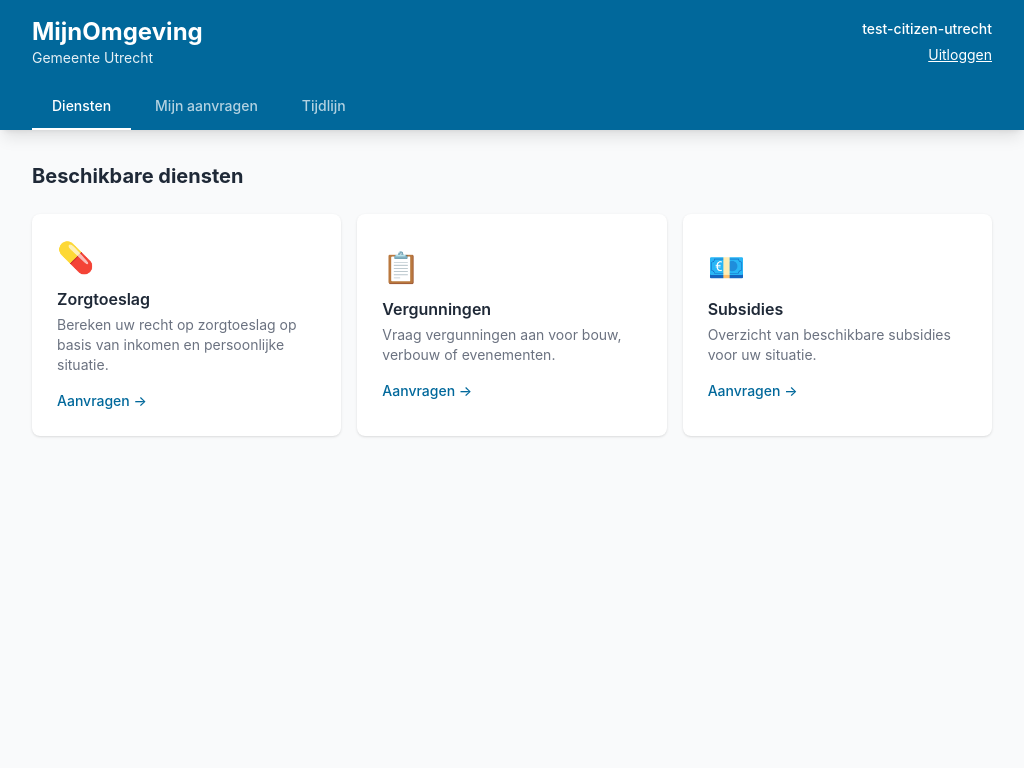
Test: Dashboard zorgtoeslag calculator › states plainly that there is no entitlement when the rule says so
This screenshot has width=1024, height=768.
Click the heading "Zorgtoeslag". click: (104, 299)
box: [57, 289, 150, 309]
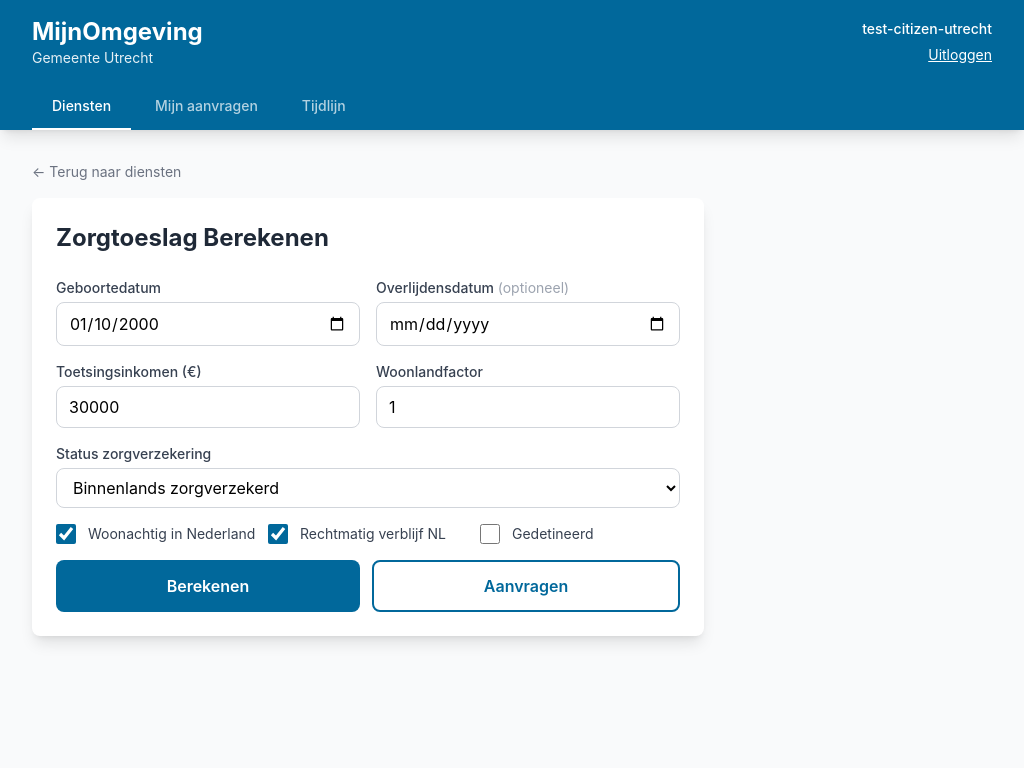
Click the button "Berekenen". click: (208, 586)
box: [56, 560, 360, 612]
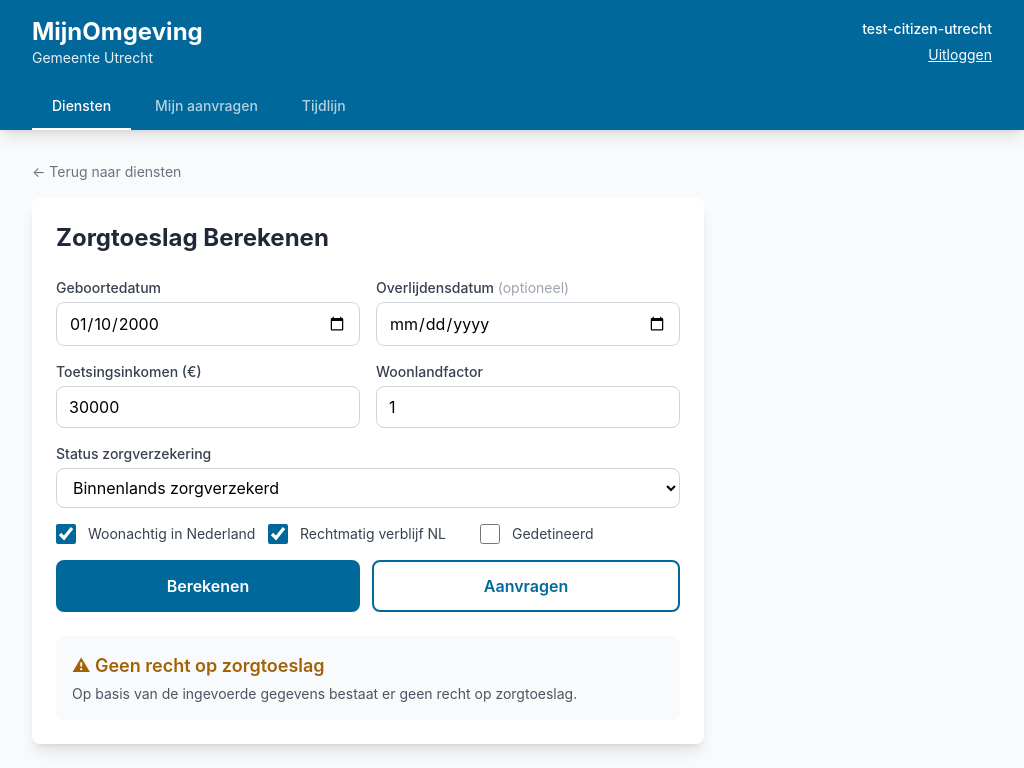
Now the heading "⚠ Geen recht op zorgtoeslag" is shown, box [72, 655, 325, 676]
